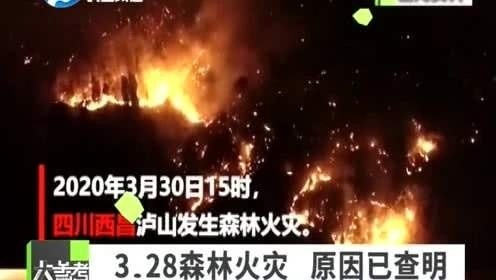fire: (288, 148, 421, 248), (57, 57, 207, 120), (332, 191, 420, 250)
